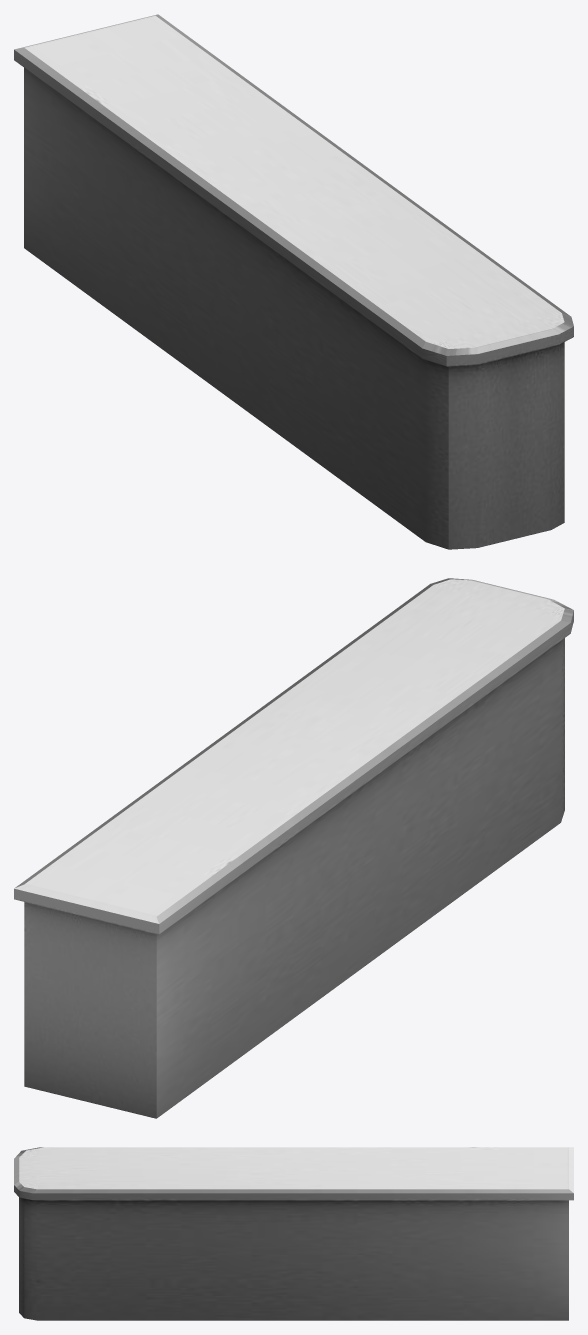
The model's file is Counter.fbx.
3 renders of one model, top to bottom at view 1: azimuth 30°, elevation 25°; view 2: azimuth 150°, elevation 25°; view 3: azimuth 270°, elevation 25°, orthographic. The views are drawn at different scales.
Visible parts, largest first — view 1: pCube12; view 2: pCube12; view 3: pCube12.
Boxes of the visible parts, x1=… form: pCube12: x1=14, y1=14, x2=573, y2=549; pCube12: x1=14, y1=578, x2=573, y2=1118; pCube12: x1=14, y1=1147, x2=573, y2=1320.
Size of the model in its own units: 64.41 by 85.58 by 331.
Materials: 1 (1 with a texture image).
